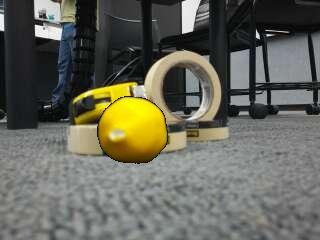lemon: (98, 98, 166, 164)
